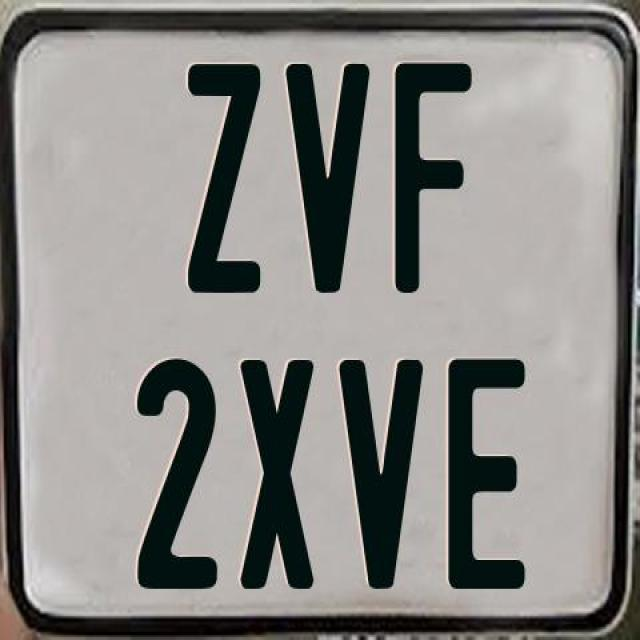2: (136, 357, 217, 597)
E: (445, 354, 531, 586)
F: (394, 61, 472, 301)
V: (334, 358, 422, 589), (282, 60, 366, 298)
X: (238, 356, 314, 594)
Z: (188, 62, 267, 292)
